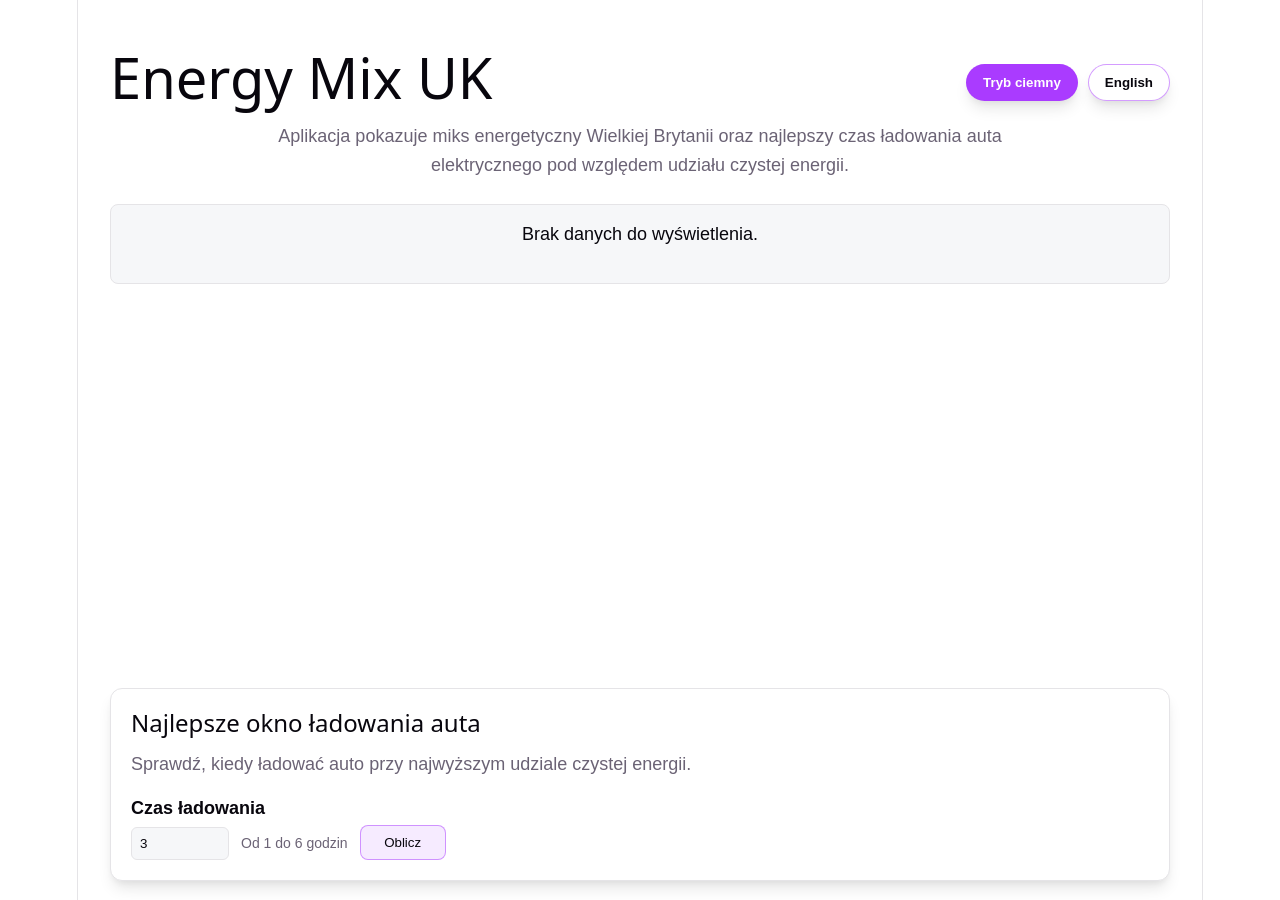
Test: App › keeps the charging form without the reserve action when reservations are not configured
What coordinates should you click on to do the following:
click the button "Oblicz"
I would click on:
 (403, 843)
Its box is [360,825,446,860].
(page scrolled)
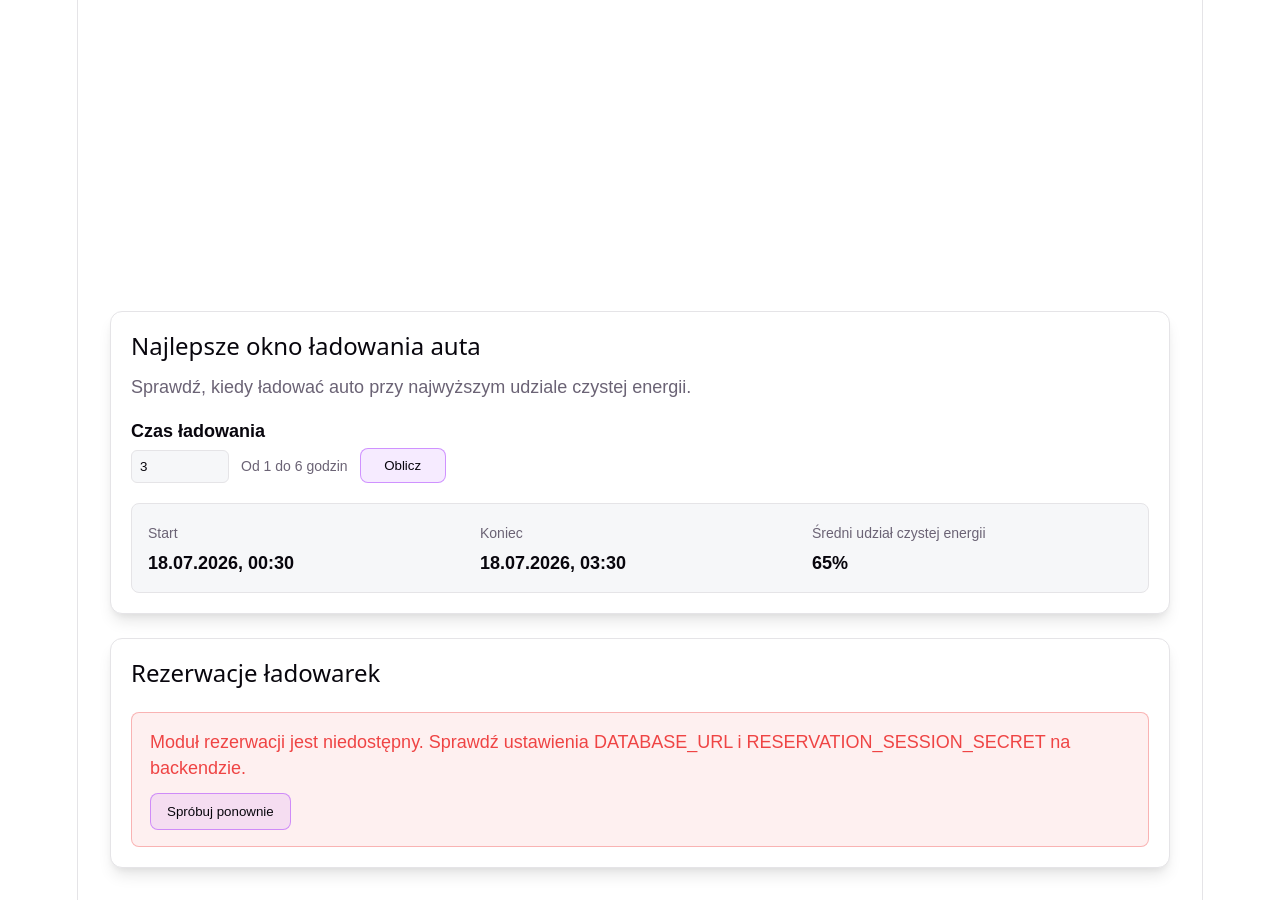
expect the text "65%" is shown: met, box [812,553,848,573]
